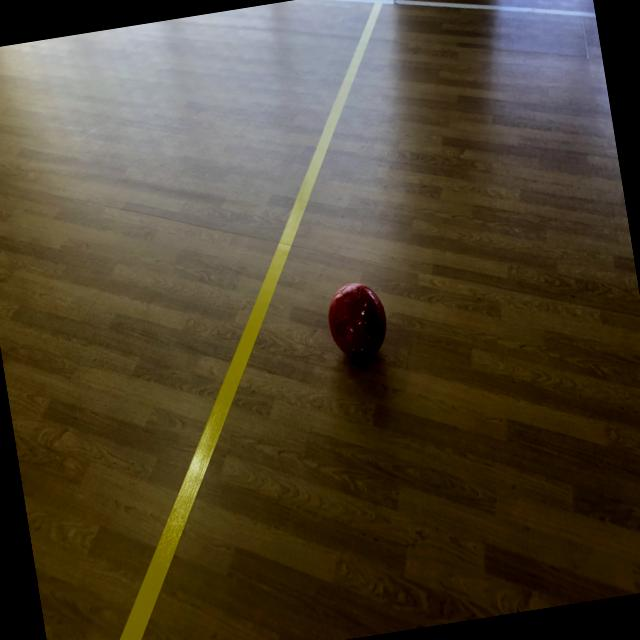red_ball: (323, 277, 392, 368)
